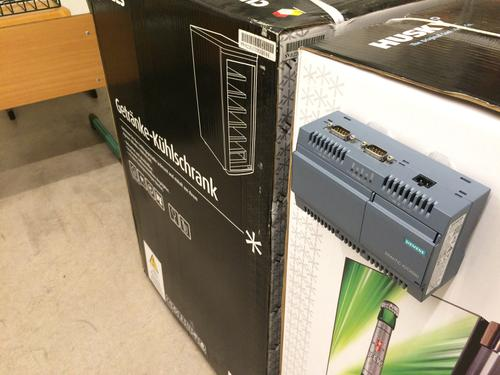iot2000: (291, 110, 493, 304)
